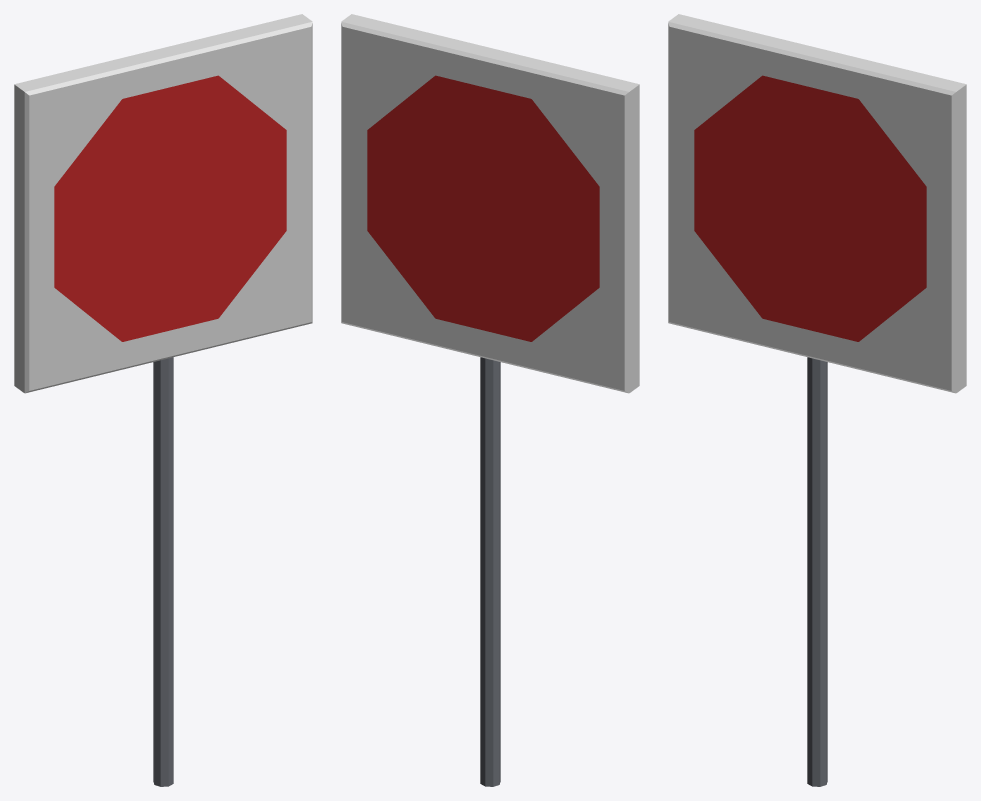
The model's file is roadSignStop.fbx.
3 views of the same model, side by side, from view 1: azimuth 30°, elevation 25°; view 2: azimuth 150°, elevation 25°; view 3: azimuth 330°, elevation 25° (orthographic).
Visible parts, largest first — view 1: roadSignStop; view 2: roadSignStop; view 3: roadSignStop.
Boxes of the visible parts, bbox=[...] form: roadSignStop: bbox=[14, 14, 312, 786]; roadSignStop: bbox=[341, 14, 639, 786]; roadSignStop: bbox=[668, 14, 966, 786].
Size of the model in its own units: 100 by 242 by 8.36.
1 material, 1 textured.
